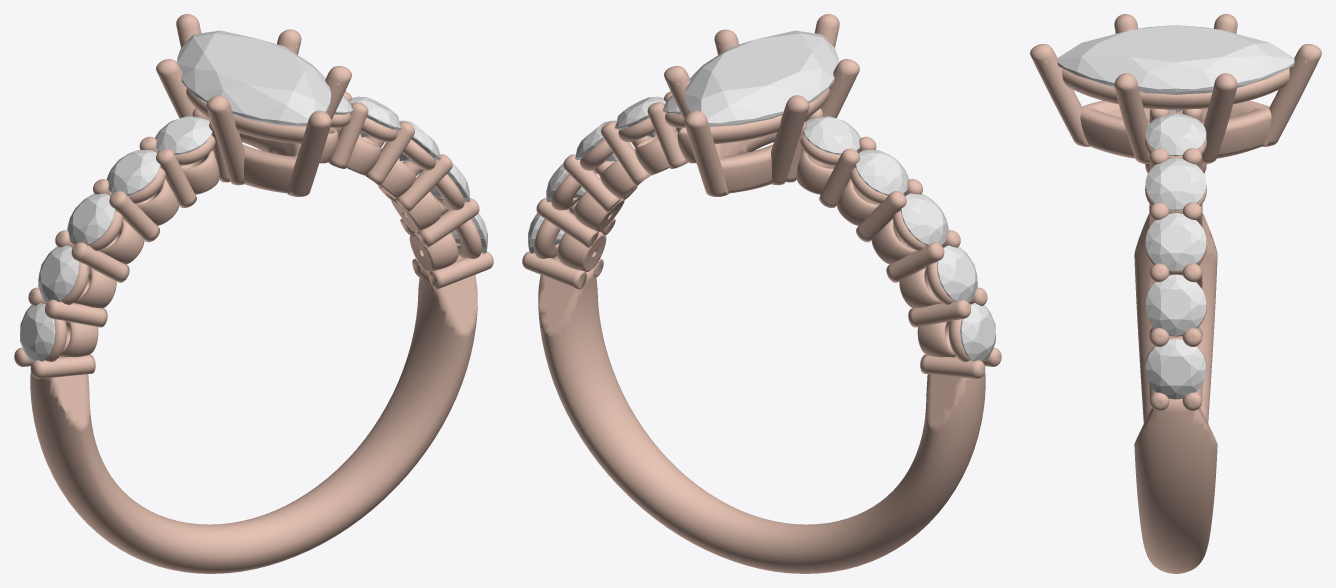
File: diamond-marquise-rosegold-6prong-taperedband-11stone.glb
3 renders of one model, left to right at view 1: azimuth 30°, elevation 25°; view 2: azimuth 150°, elevation 25°; view 3: azimuth 270°, elevation 25°, orthographic.
Parts seen in each view (by area): view 1: metal.001, stone.001, dia.014, dia.013, dia.015, dia.001, dia.016, dia.020; view 2: metal.001, stone.001, dia.014, dia.013, dia.015, dia.001, dia.016, dia.020; view 3: metal.001, stone.001, dia.018, dia.017, dia.019, dia.020, dia.021.
Boxes of the visible parts, x1,y1,x2,y2 form: metal.001: (14, 14, 493, 573); stone.001: (177, 30, 331, 126); dia.014: (67, 193, 115, 245); dia.013: (38, 245, 78, 302); dia.015: (106, 150, 160, 195); dia.001: (20, 303, 55, 362); dia.016: (155, 116, 212, 154); dia.020: (349, 96, 400, 137); metal.001: (522, 14, 1001, 573); stone.001: (684, 30, 838, 126); dia.014: (900, 193, 948, 245); dia.013: (937, 245, 977, 302); dia.015: (855, 150, 908, 195); dia.001: (960, 303, 995, 362); dia.016: (803, 116, 860, 154); dia.020: (615, 96, 666, 137); metal.001: (1030, 14, 1321, 573); stone.001: (1057, 25, 1294, 112); dia.018: (1145, 274, 1206, 335); dia.017: (1145, 339, 1206, 399); dia.019: (1145, 213, 1206, 271); dia.020: (1145, 158, 1206, 210); dia.021: (1145, 113, 1206, 156).
Bounding box in the file's own units: 21.88 × 22.93 × 11.96.
